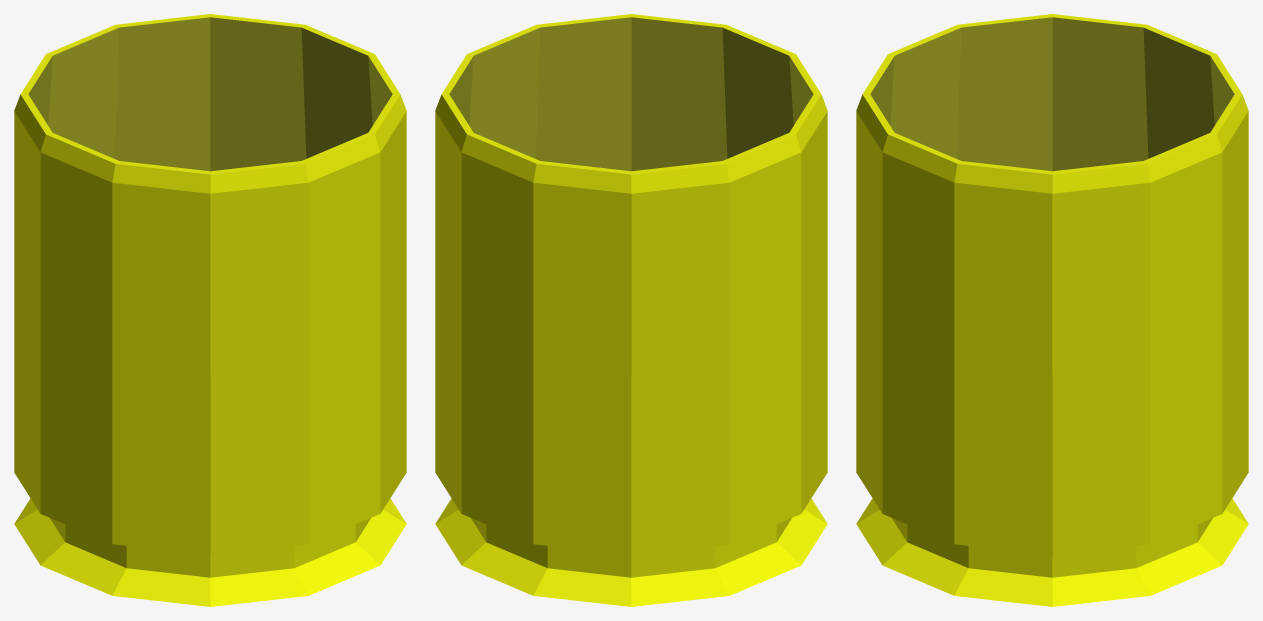
The model's file is 9mm Casing_3DModel_3.fbx.
3 renders of one model, left to right at view 1: azimuth 30°, elevation 25°; view 2: azimuth 150°, elevation 25°; view 3: azimuth 270°, elevation 25°, orthographic.
Visible parts, largest first — view 1: Casing; view 2: Casing; view 3: Casing.
Part boxes in pixels (box(x1,y1,x2,y2)): Casing: box(14, 14, 406, 606); Casing: box(435, 14, 827, 606); Casing: box(856, 14, 1248, 606).
Size of the model in its own units: 0.0207 by 0.025 by 0.0207.
